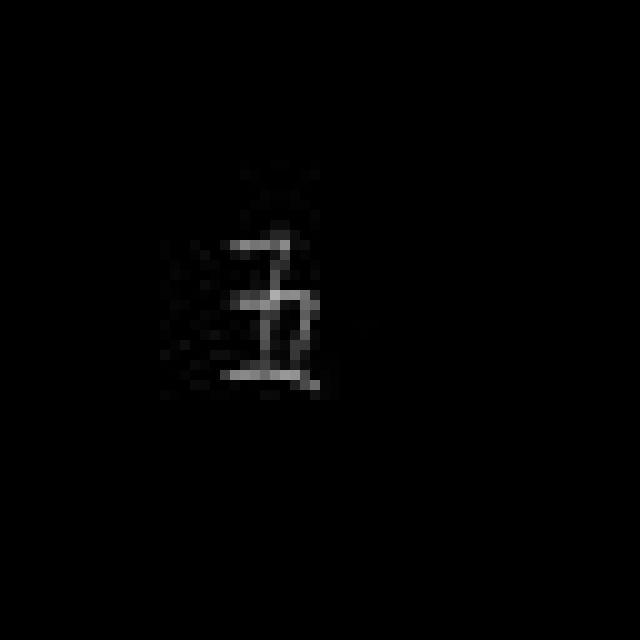5 -five-: (210, 226, 338, 400)
